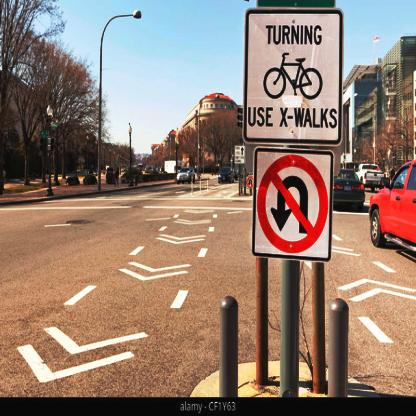No U-turn: (252, 149, 328, 265)
